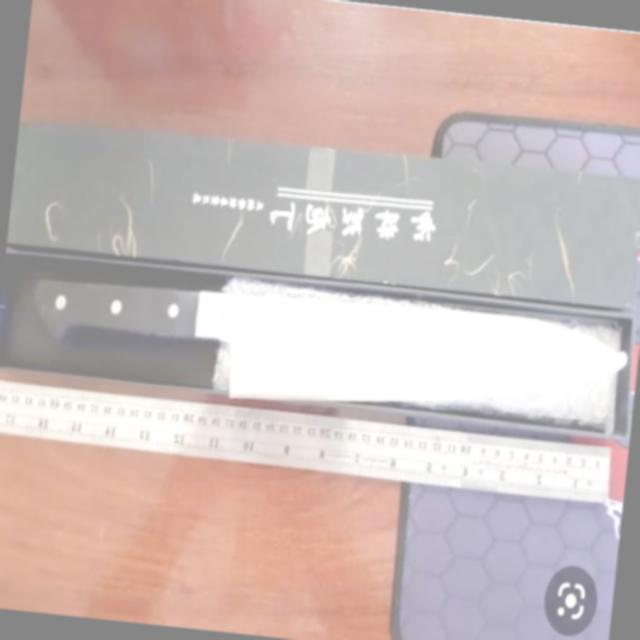knife: (17, 260, 631, 442)
